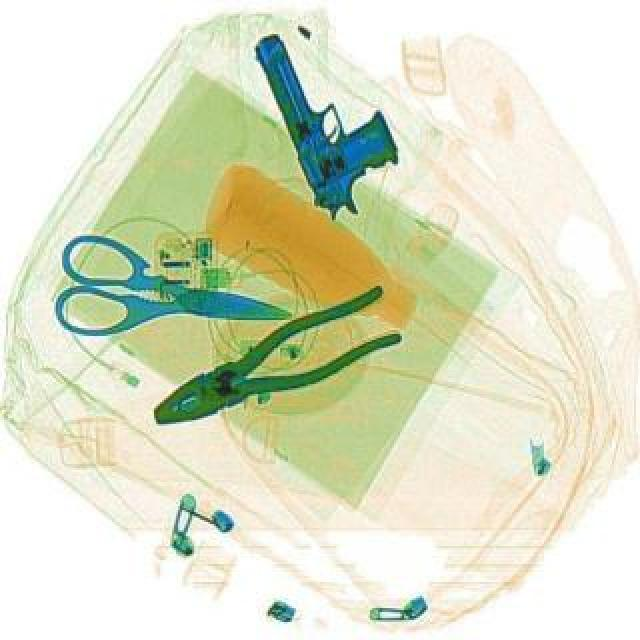gun: (246, 8, 422, 224)
pliers: (50, 228, 304, 364)
wrench: (140, 278, 414, 446)
